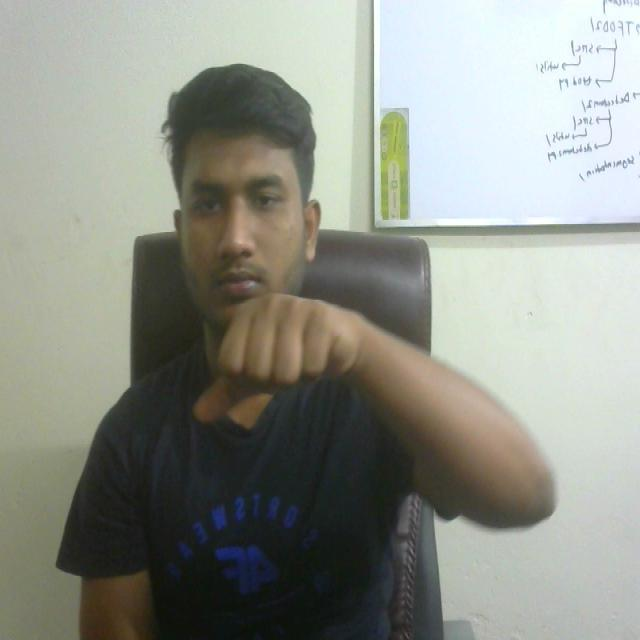I: (174, 263, 384, 457)
